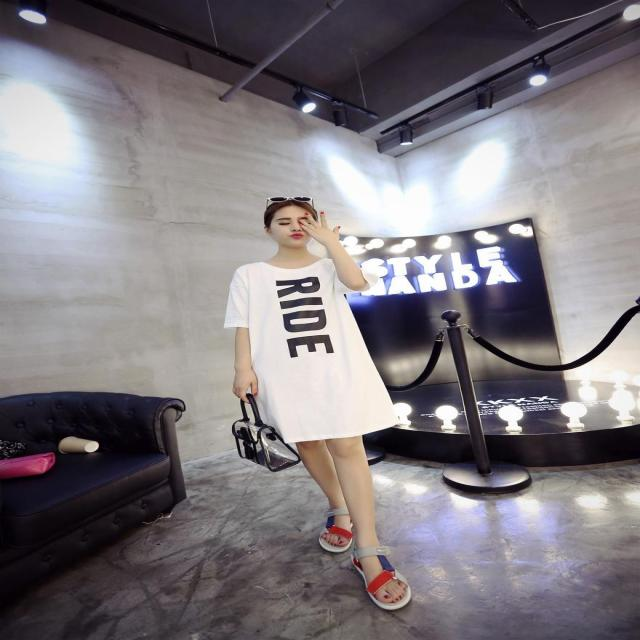short-sleeve-dress: (193, 244, 410, 456)
